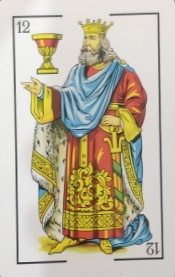12c: (9, 10, 161, 36)
